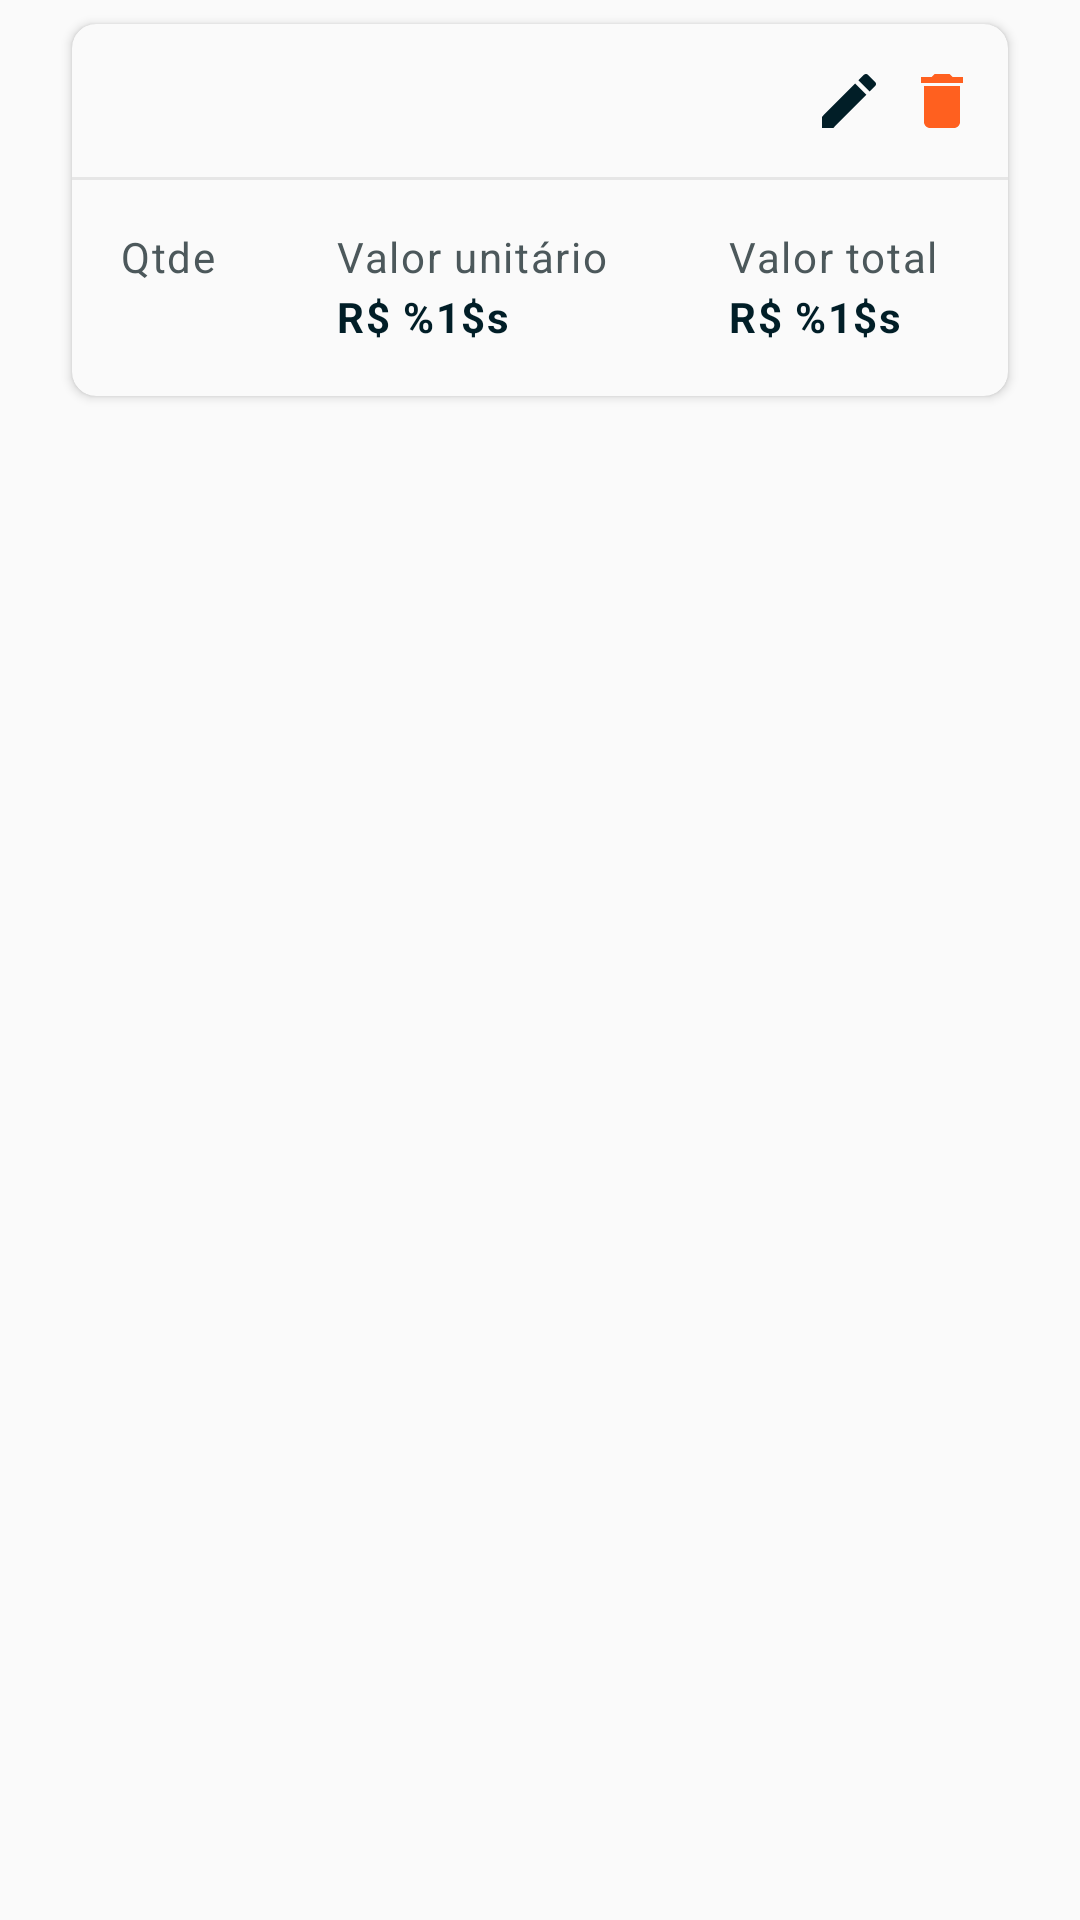

Screen size 1080w x 1920h. Icon name, then its box in pixels as (x1, y1, x2, y2):
delete: (921, 74, 963, 128)
edit: (822, 74, 876, 128)
